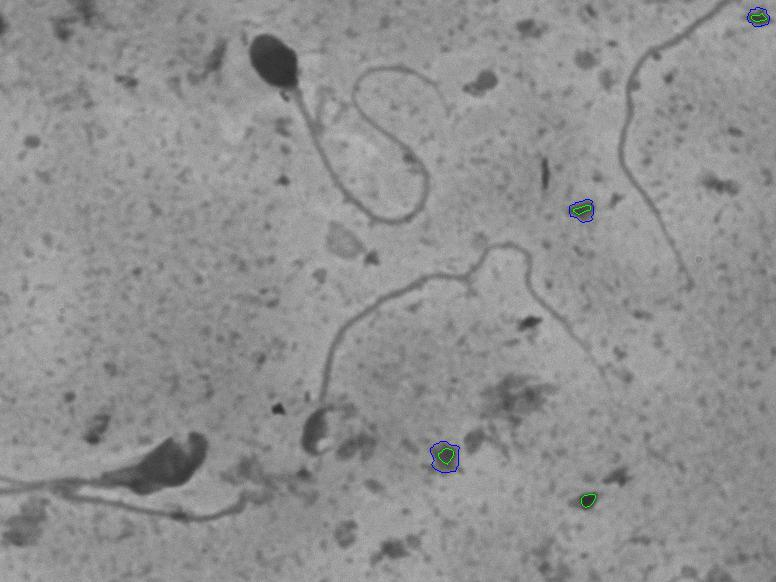Abnormal: (280, 236, 612, 473), (14, 395, 261, 560)
Normal: (180, 23, 476, 254)
